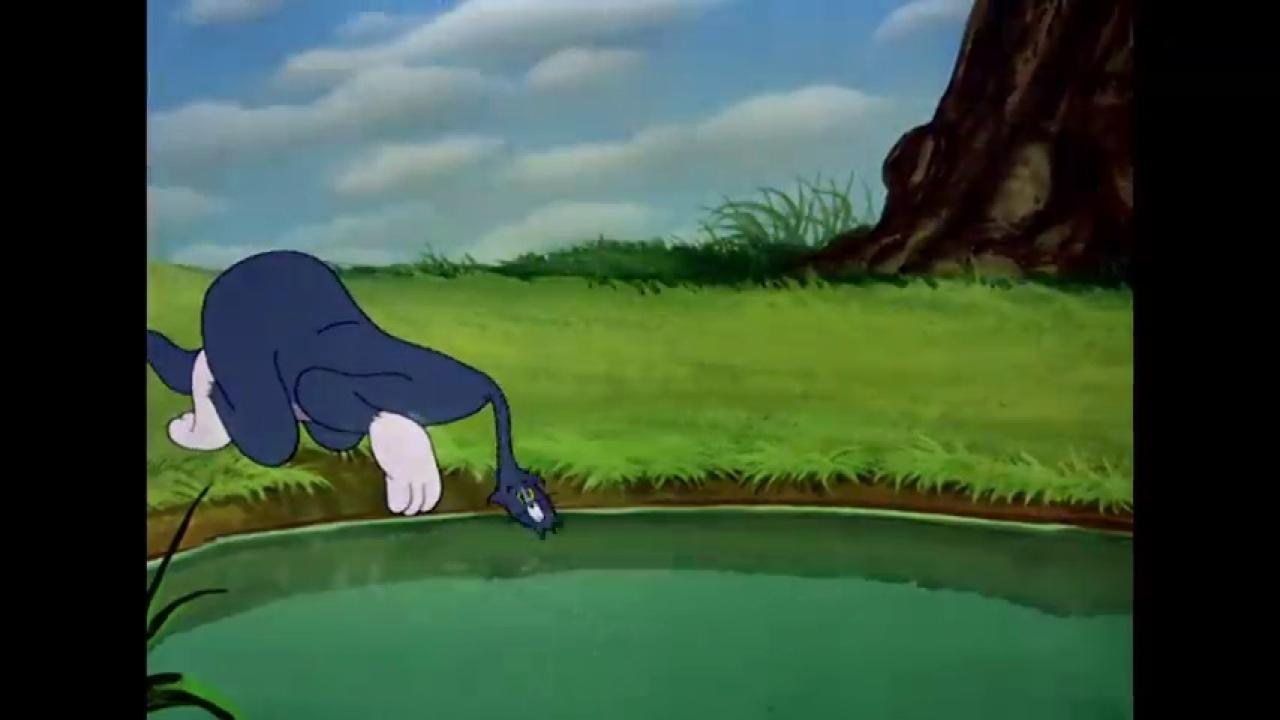Tom: (148, 248, 565, 544)
